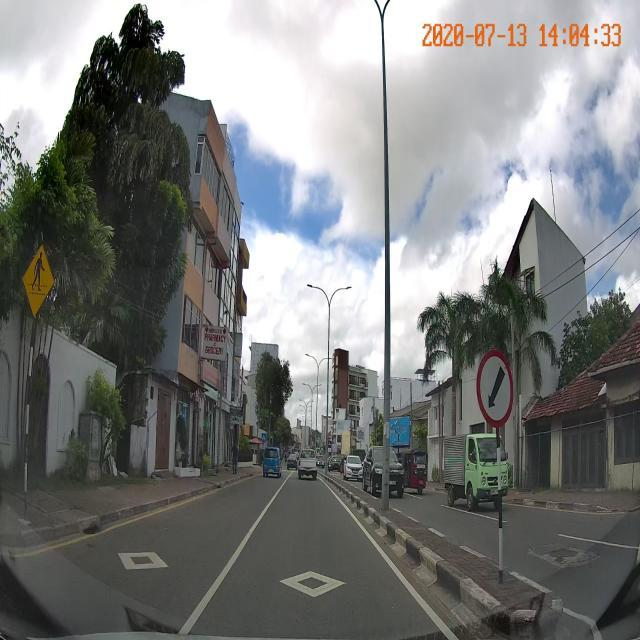diamond: (206, 569, 428, 605)
